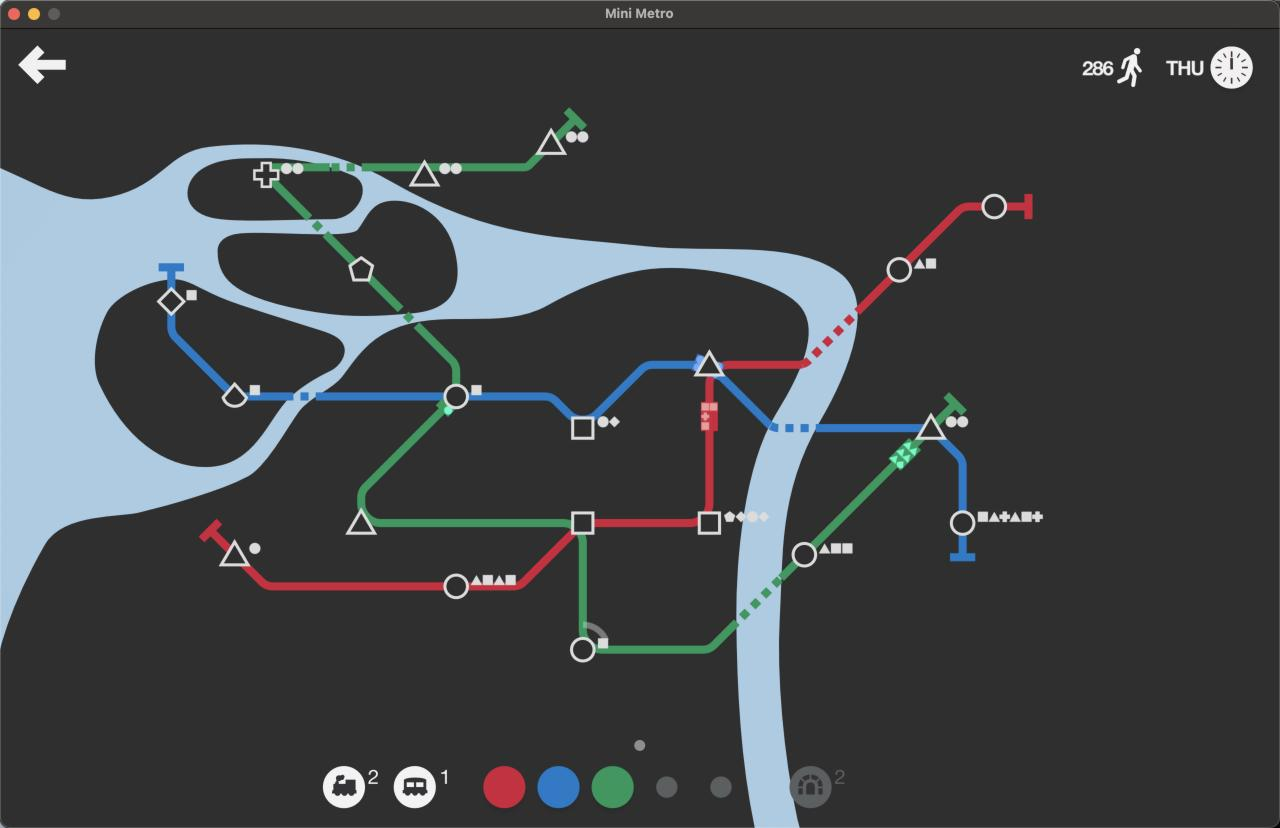CIRCLE: (949, 509, 977, 537), (886, 256, 913, 284), (791, 541, 818, 569), (570, 636, 597, 663), (443, 383, 469, 411), (443, 573, 469, 600), (981, 193, 1007, 219)
CROSS: (252, 161, 280, 189)
GEM: (157, 287, 186, 315)
PENTAGON: (347, 256, 374, 283)
SQUARE: (571, 510, 595, 535), (698, 510, 721, 536)
TRIANGLE: (914, 411, 946, 441), (218, 538, 250, 568), (346, 508, 378, 536), (536, 127, 566, 156), (693, 350, 725, 377), (409, 159, 439, 187)
WEDGE: (222, 382, 248, 408), (571, 416, 596, 441)
